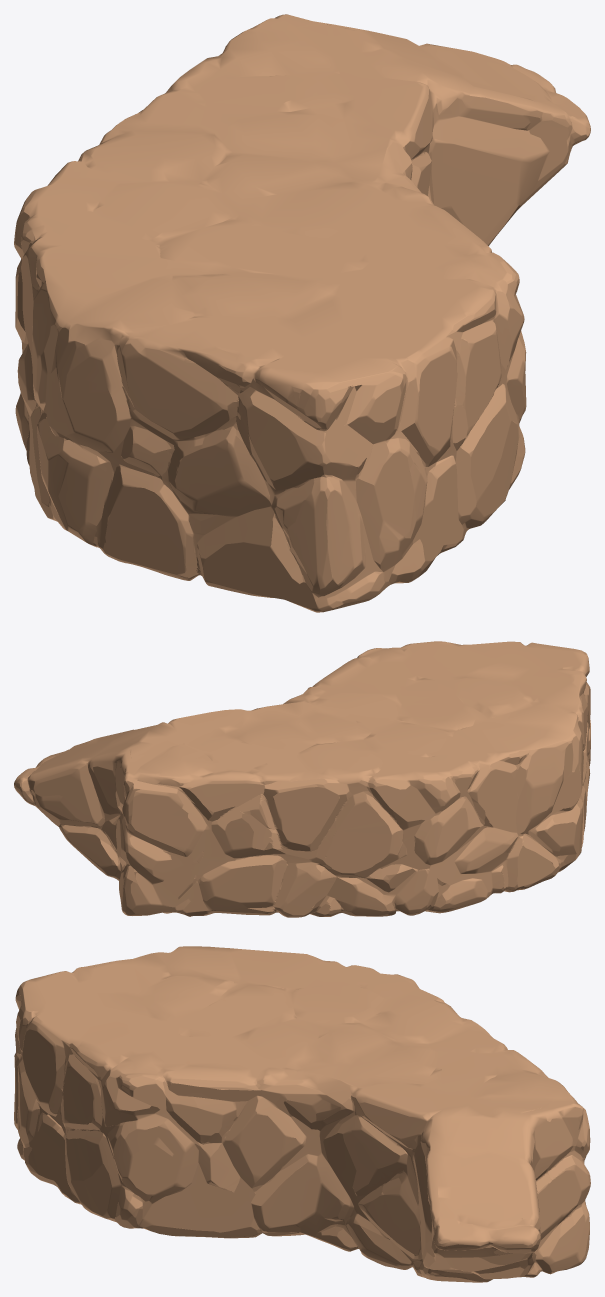
The picture shows the model from 3 angles, top to bottom: view 1: azimuth 30°, elevation 25°; view 2: azimuth 150°, elevation 25°; view 3: azimuth 270°, elevation 25°; orthographic projection. The views are drawn at different scales.
Visible parts, largest first — view 1: Mesh_100_LOD0; view 2: Mesh_100_LOD0; view 3: Mesh_100_LOD0.
Part boxes in pixels (left/top/right/bottom): Mesh_100_LOD0: left=14, top=14, right=590, bottom=612; Mesh_100_LOD0: left=14, top=641, right=590, bottom=917; Mesh_100_LOD0: left=14, top=946, right=590, bottom=1282.
Size of what is drawn, in the model's own units: 6561 by 2136 by 6595.
